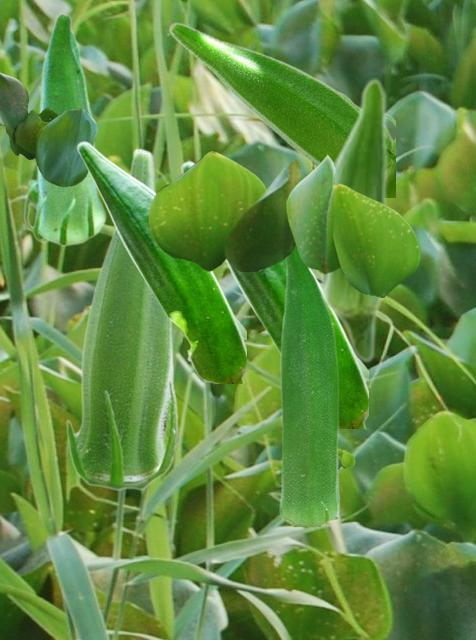okra: (180, 161, 367, 427), (76, 141, 245, 382), (168, 22, 394, 196), (65, 147, 178, 490), (319, 77, 389, 363), (23, 12, 106, 246), (278, 248, 338, 525)
